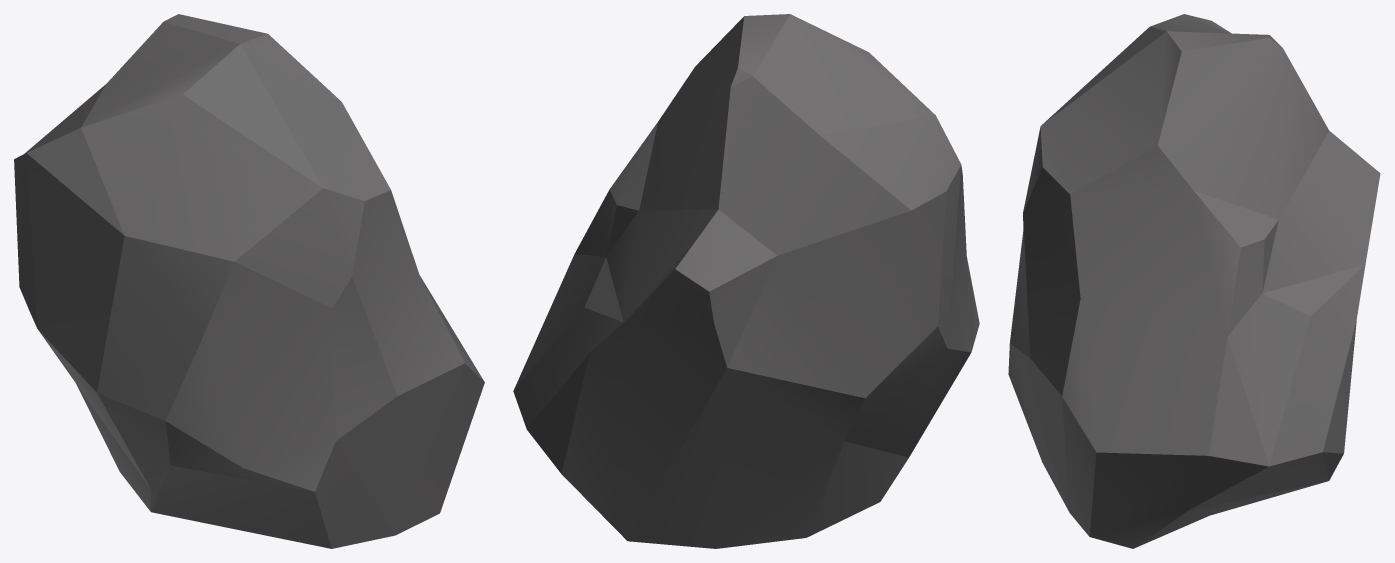
Rendered from rock.obj.
The picture shows the model from 3 angles, left to right: view 1: azimuth 30°, elevation 25°; view 2: azimuth 150°, elevation 25°; view 3: azimuth 270°, elevation 25°; orthographic projection. The views are drawn at different scales.
Parts seen in each view (by area): view 1: RockC; view 2: RockC; view 3: RockC.
Boxes of the visible parts, x1,y1,x2,y2 form: RockC: [14, 14, 484, 548]; RockC: [513, 14, 979, 548]; RockC: [1008, 14, 1380, 548].
Size of the model in its own units: 3.65 by 4.14 by 3.12.
